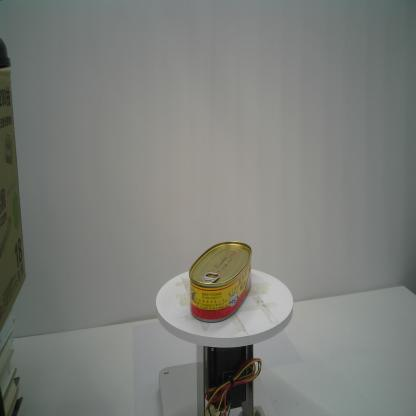Canned Food: (188, 240, 253, 323)
